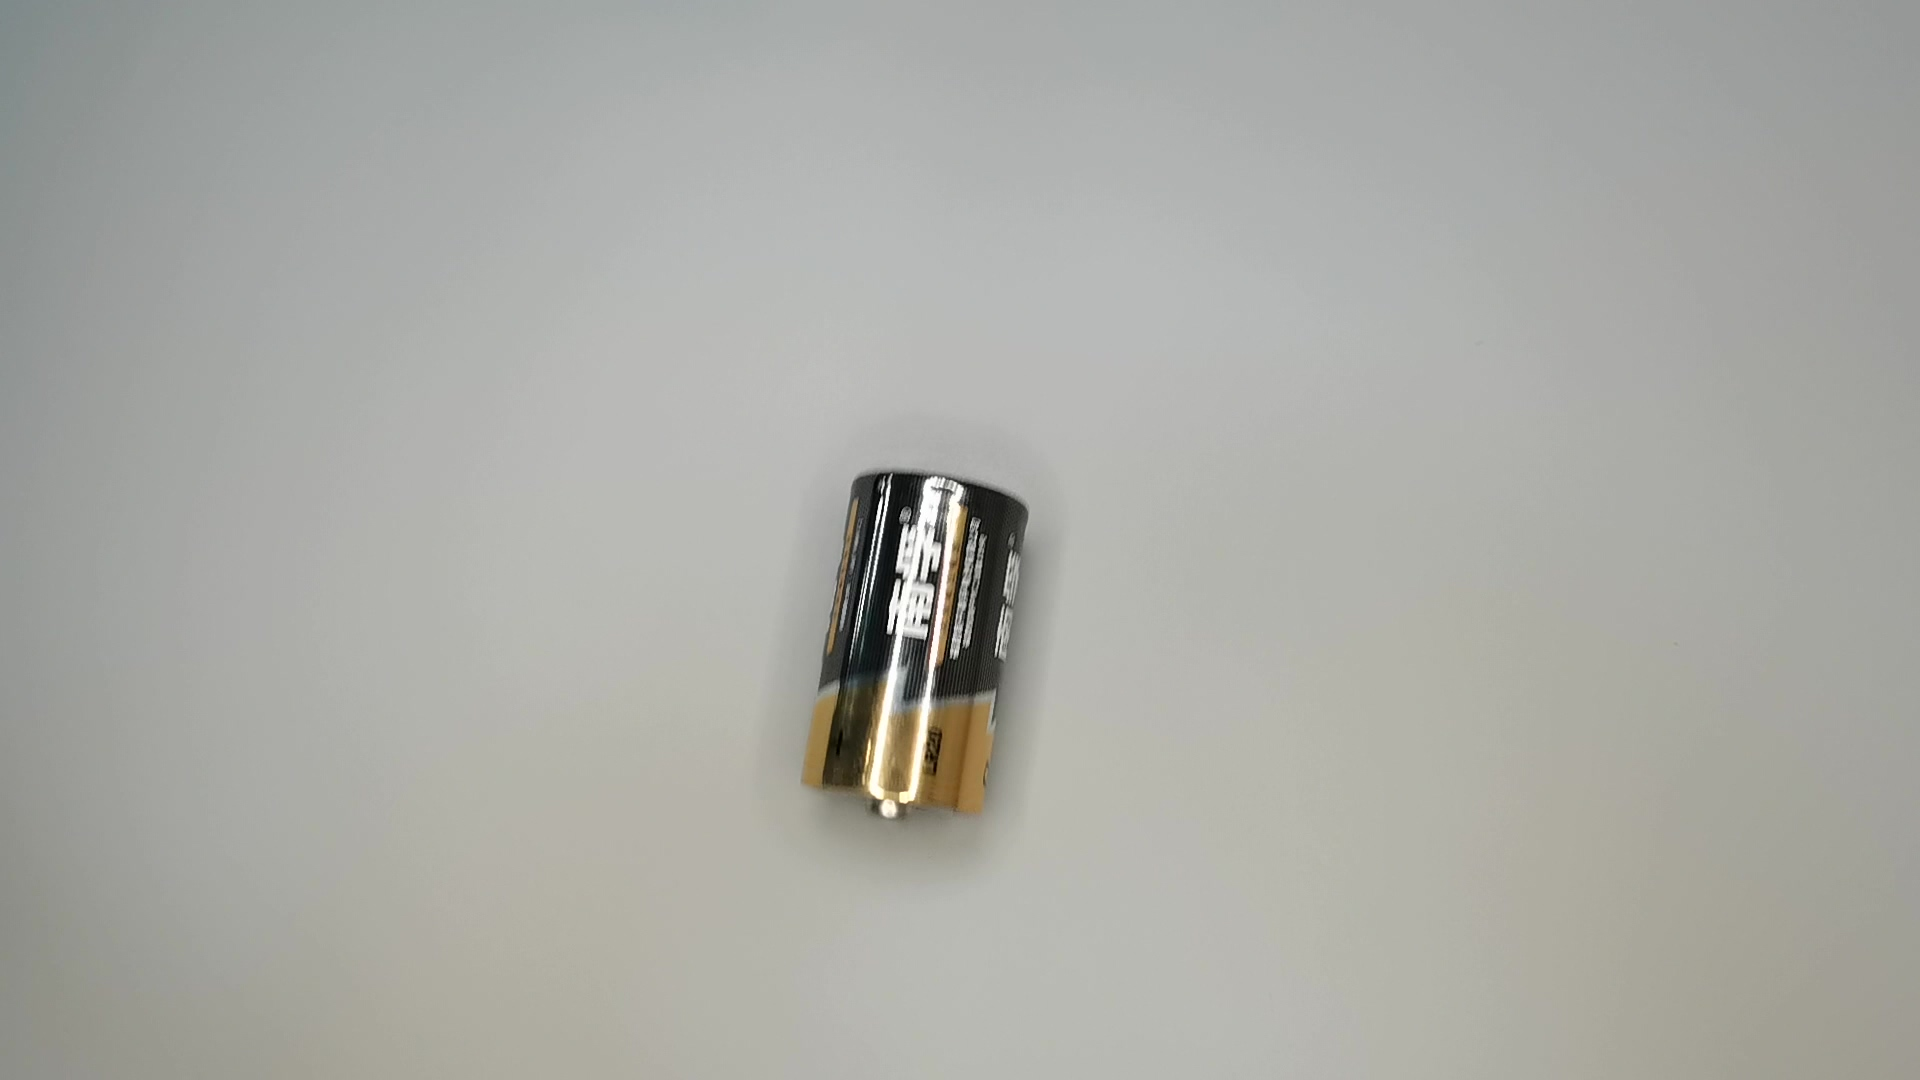battery: (793, 465, 1036, 831)
